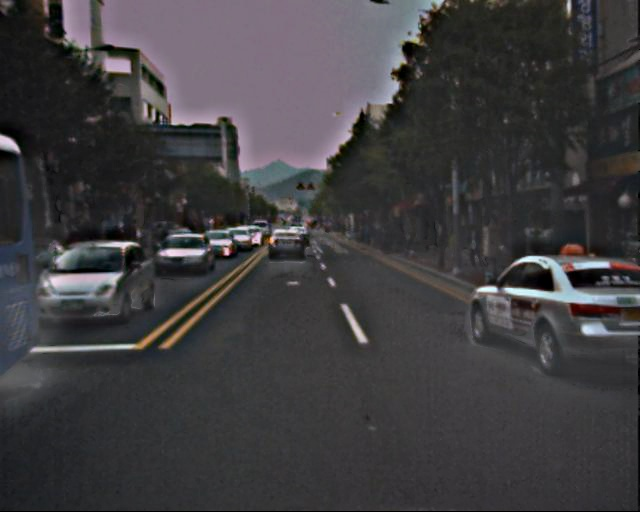person: (466, 223, 484, 267)
